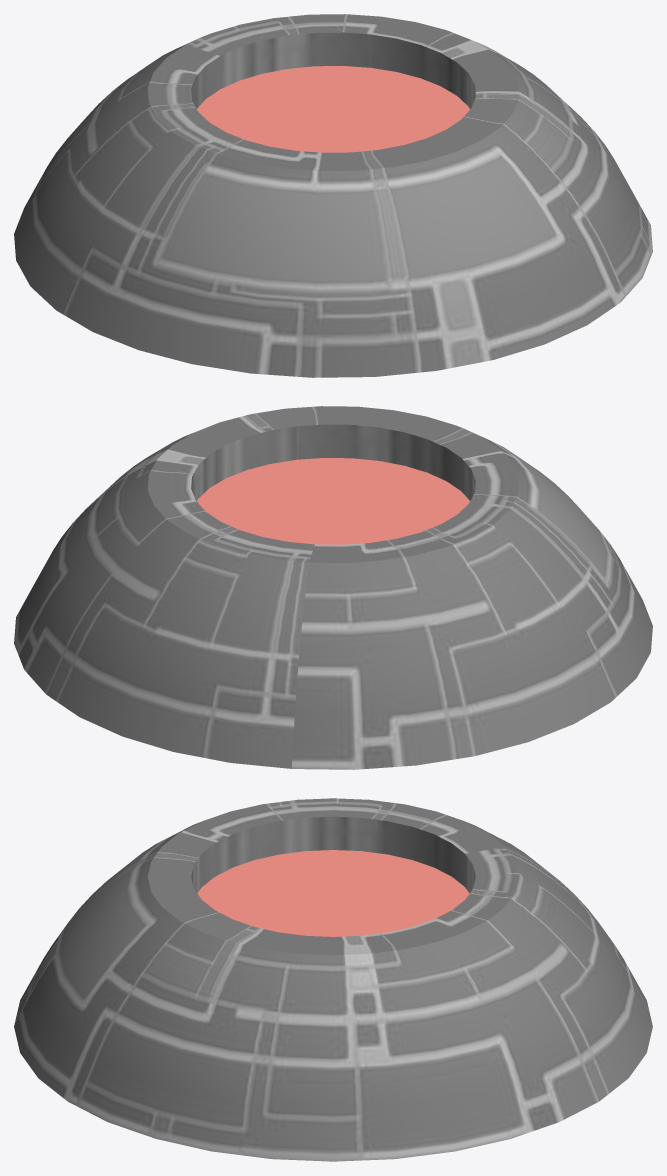
Rendered from SM_lamp_big.glb.
3 views of the same model, one above another, from view 1: azimuth 30°, elevation 25°; view 2: azimuth 150°, elevation 25°; view 3: azimuth 270°, elevation 25° (orthographic).
Visible parts, largest first — view 1: SM_lamp_big; view 2: SM_lamp_big; view 3: SM_lamp_big.
Part boxes in pixels (x1,y1,x2,y2): SM_lamp_big: [14, 14, 652, 377]; SM_lamp_big: [14, 406, 652, 769]; SM_lamp_big: [14, 798, 652, 1161].
Size of the model in its own units: 0.6038 by 0.1562 by 0.6038.
Materials: 2 (1 with a texture image).
